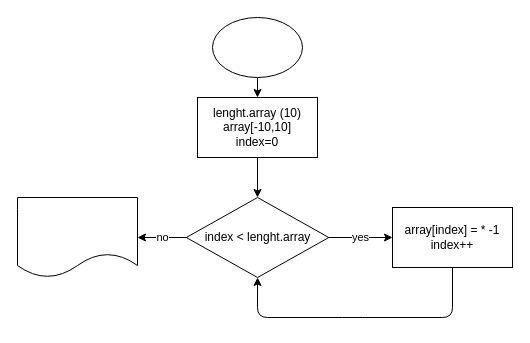
This 530x343 diagram has some shape labels left out. The shapes that lost their labels are listed below. From the top down, each one's centre as x and y in pixels, then its label:
point (257, 47): Start
point (77, 237): вывод array
